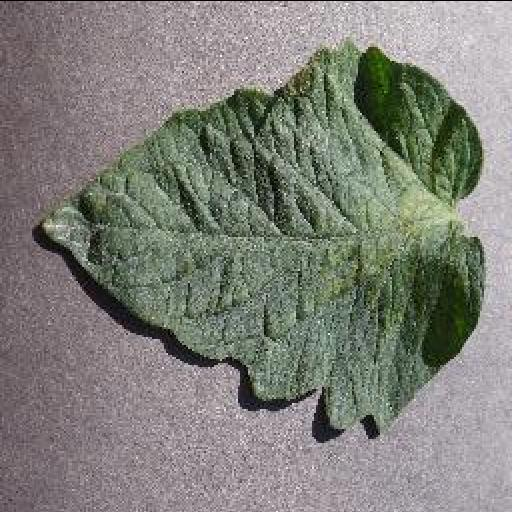disease_tomato: (38, 40, 484, 442)
